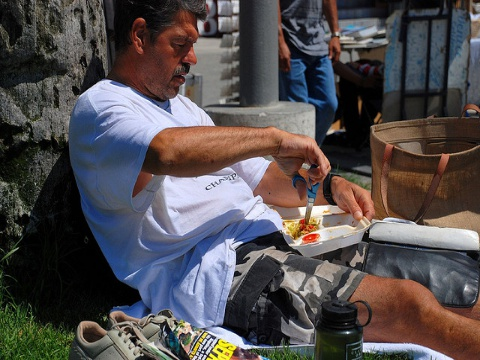hand: (274, 126, 330, 200), (332, 176, 374, 221)
